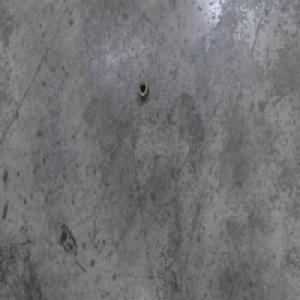Nut: (137, 78, 150, 101)
